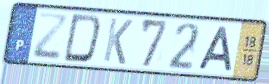2: (166, 22, 201, 71)
7: (140, 17, 171, 69)
A: (197, 25, 234, 74)
D: (61, 13, 104, 66)
K: (101, 16, 134, 66)
Z: (30, 11, 70, 62)
